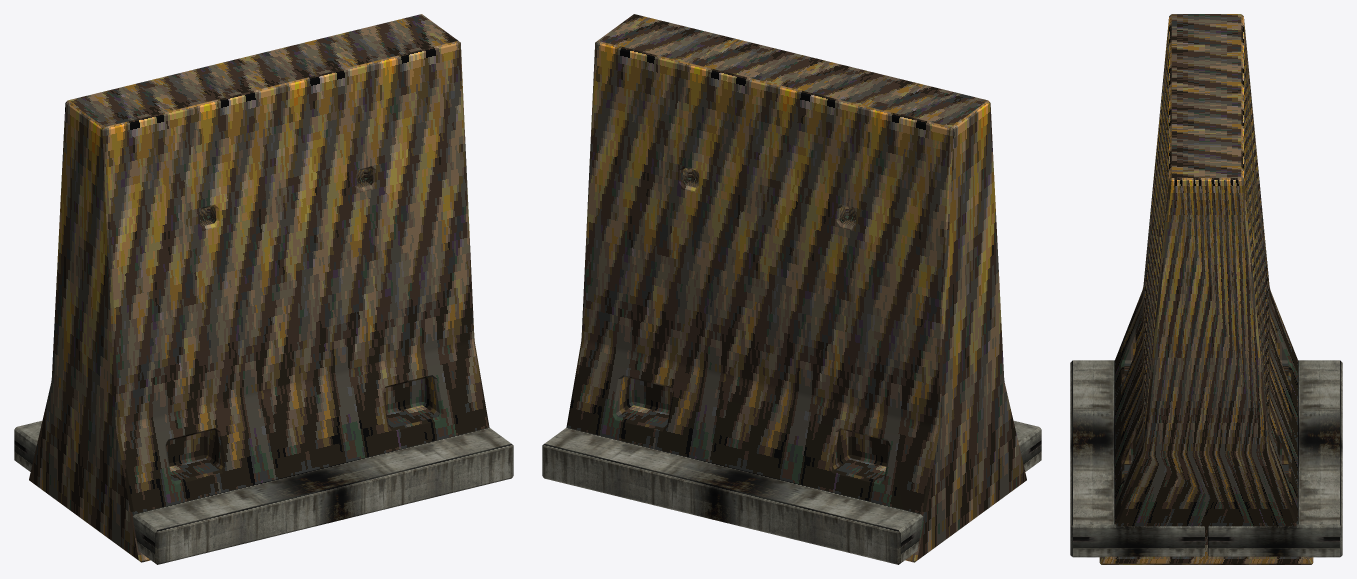
File: static.glb
3 renders of one model, left to right at view 1: azimuth 30°, elevation 25°; view 2: azimuth 150°, elevation 25°; view 3: azimuth 270°, elevation 25°, orthographic. The views are drawn at different scales.
Visible parts, largest first — view 1: Cube_cuts, Cube_4; view 2: Cube_cuts, Cube_4; view 3: Cube_cuts, Cube_4.
Boxes of the visible parts, box(x1,y1,x2,y2) form: Cube_cuts: box(29, 14, 489, 562); Cube_4: box(14, 421, 513, 564); Cube_cuts: box(566, 14, 1026, 562); Cube_4: box(542, 421, 1041, 564); Cube_cuts: box(1099, 14, 1313, 564); Cube_4: box(1070, 360, 1342, 557).
Size of the model in its own units: 2.01 by 2.18 by 1.39.
2 materials, 2 textured.
